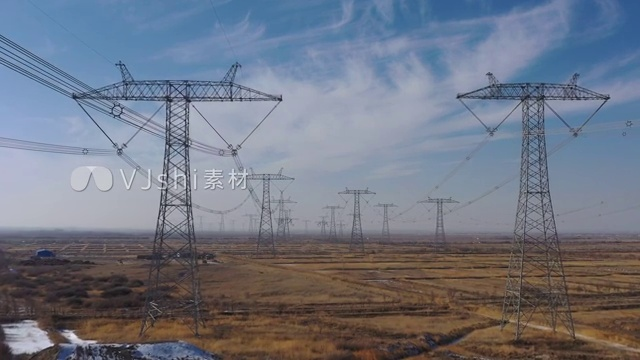tower_body: (71, 60, 295, 343), (454, 68, 613, 350)
tower_foot: (503, 274, 577, 348), (140, 272, 213, 340)
tower_head: (75, 64, 287, 107), (457, 71, 611, 106)
